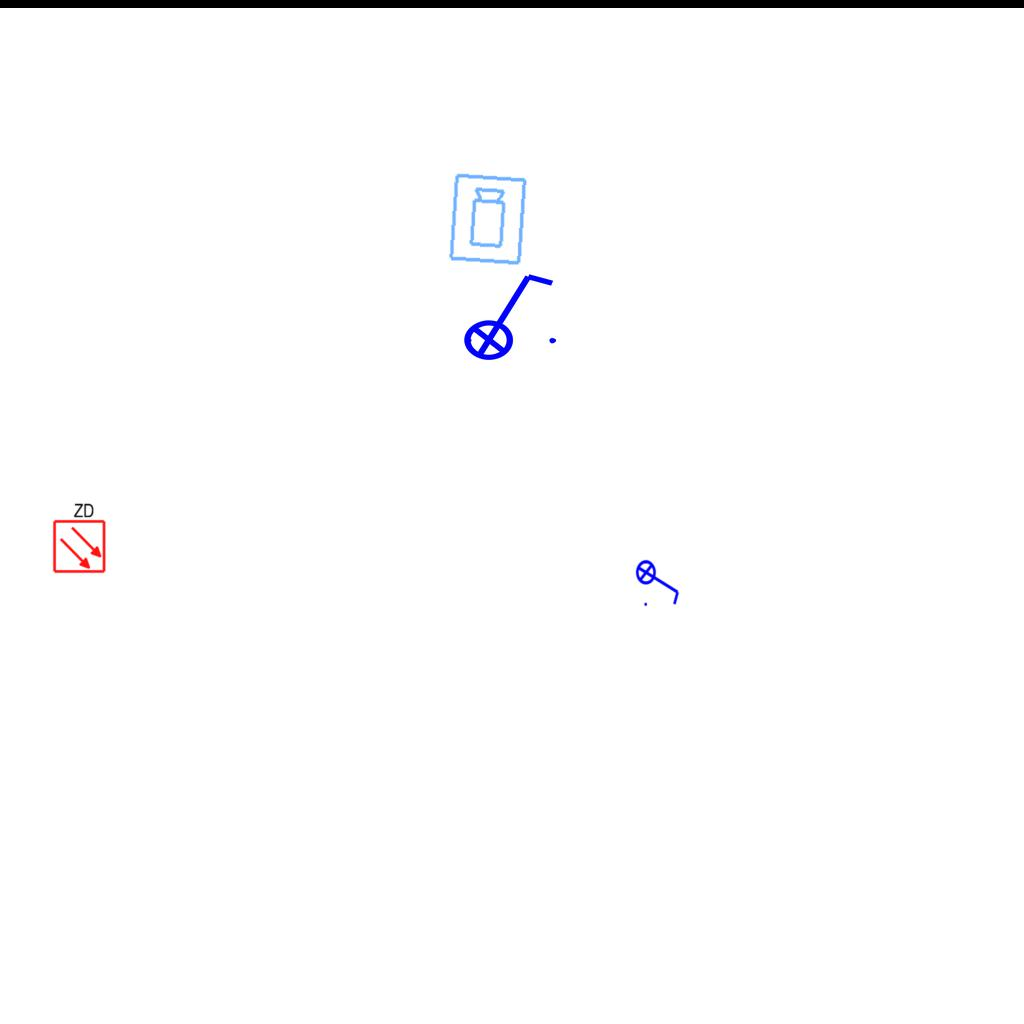Ausschalter_beleuchtet: (450, 266, 562, 362), (635, 553, 683, 609)
KFO_Kamera_mit_Festobjektiv: (446, 171, 531, 268)
ZD_Melder_in_Zwischendecke_mit_Revisionsoeffnung_mind_40_x_40_cm: (50, 500, 107, 574)
